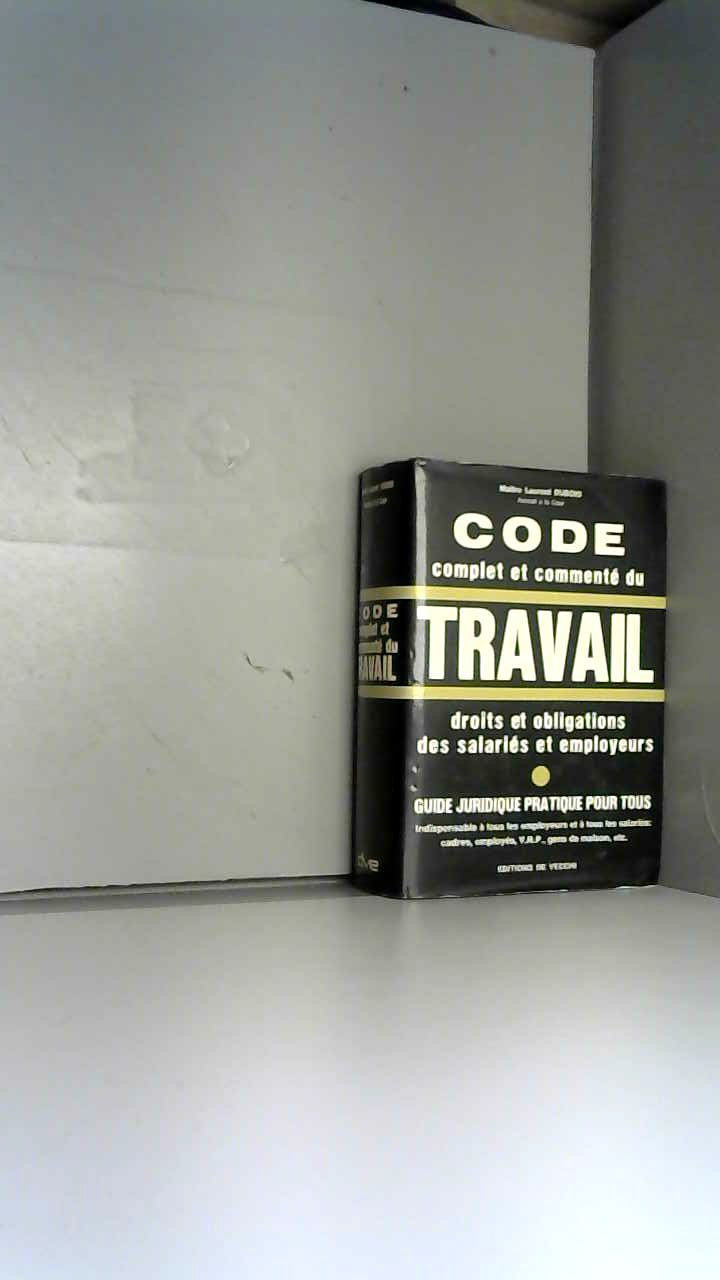book: (332, 443, 691, 919)
